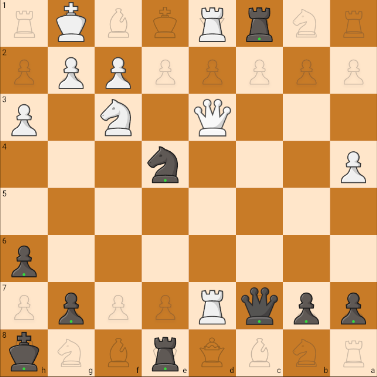bk: (4, 331, 44, 374), (241, 283, 280, 326)
bn: (145, 142, 184, 186)
bp: (3, 237, 44, 280), (56, 283, 93, 327), (287, 288, 324, 327), (337, 289, 372, 327)
br: (143, 333, 183, 373), (243, 3, 278, 46)
wk: (51, 2, 92, 44), (192, 97, 233, 138)
wp: (3, 97, 44, 138), (334, 144, 371, 185), (52, 50, 88, 91), (100, 53, 137, 91)
wq: (99, 96, 140, 138)
wr: (192, 285, 233, 327), (194, 2, 233, 46)
